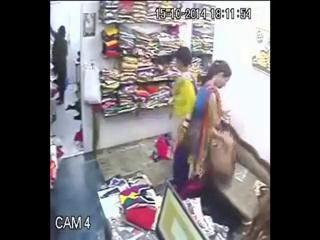shoplifting: (188, 63, 243, 192)
